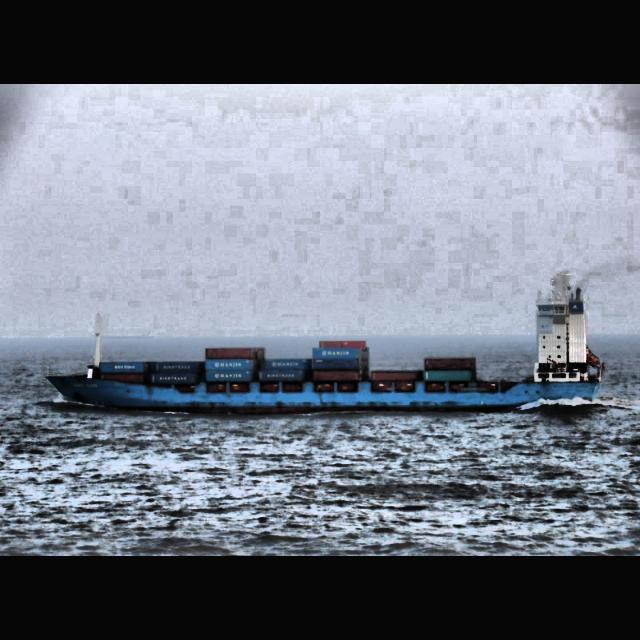container: (46, 274, 604, 418)
